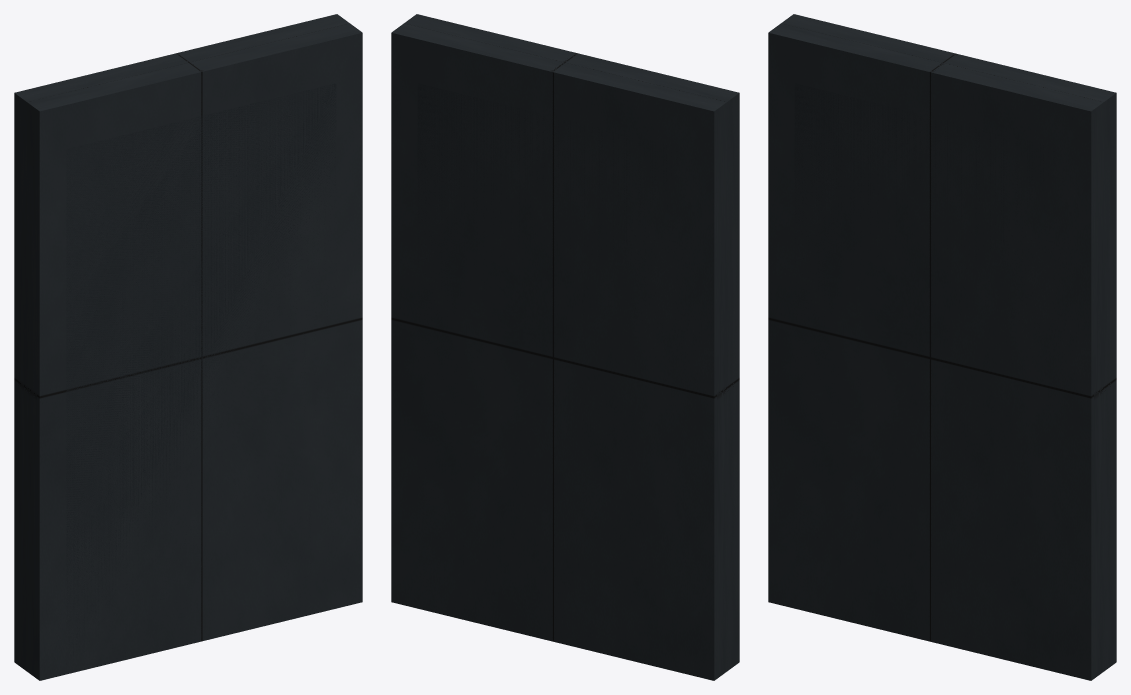
The model's file is elevator_module.gltf.
3 views of the same model, side by side, from view 1: azimuth 30°, elevation 25°; view 2: azimuth 150°, elevation 25°; view 3: azimuth 330°, elevation 25° (orthographic).
Visible parts, largest first — view 1: elevator_module_frame, elevator_distance_portal; view 2: elevator_module_frame, elevator_distance_portal; view 3: elevator_module_frame, elevator_distance_portal.
Part boxes in pixels (box(x1,y1,x2,y2)): elevator_module_frame: box(16, 17, 358, 675); elevator_distance_portal: box(14, 14, 362, 680); elevator_module_frame: box(395, 17, 737, 675); elevator_distance_portal: box(391, 14, 739, 680); elevator_module_frame: box(772, 17, 1114, 675); elevator_distance_portal: box(768, 14, 1116, 680).
Size of what is drawn, in the model's own units: 1.46 by 2.46 by 0.2.
Materials: 7 (6 with a texture image).
